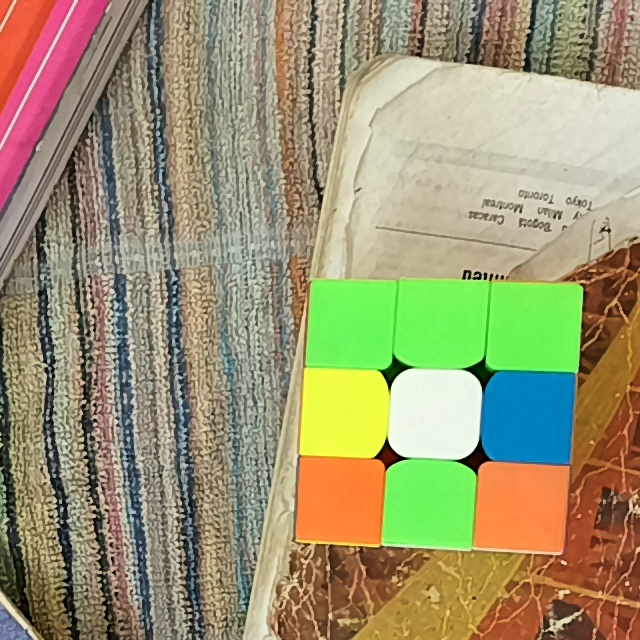tile: (495, 286, 573, 366), (484, 468, 563, 542), (313, 285, 390, 360), (303, 461, 378, 535), (391, 470, 469, 541), (493, 380, 567, 454), (307, 373, 378, 448), (404, 287, 480, 357), (399, 378, 472, 447)
